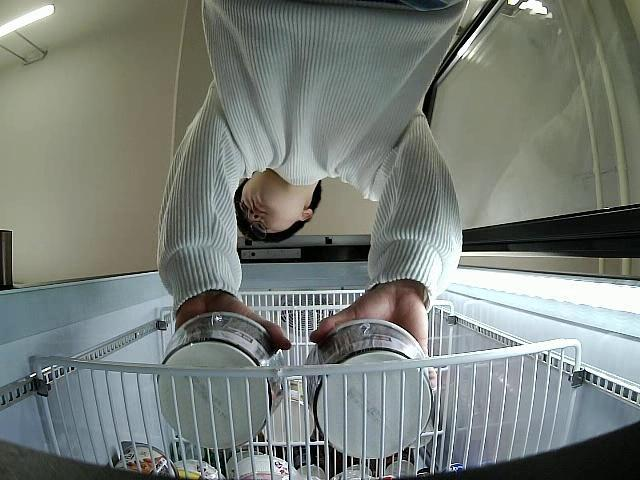07_buldak_L: (301, 322, 434, 458), (154, 312, 288, 446)
